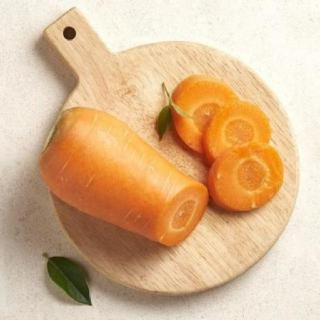carrot: (36, 106, 212, 249)
